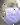with_mask: (1, 1, 20, 25)
